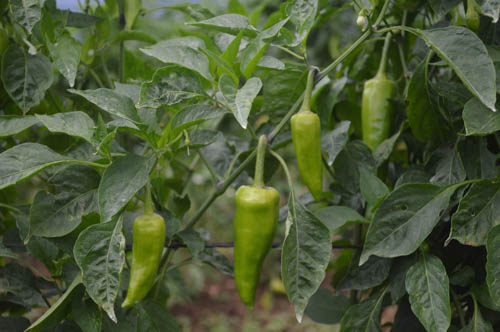ChiliPepper: (233, 186, 276, 312), (121, 218, 165, 307), (360, 78, 397, 182), (290, 112, 325, 198)
